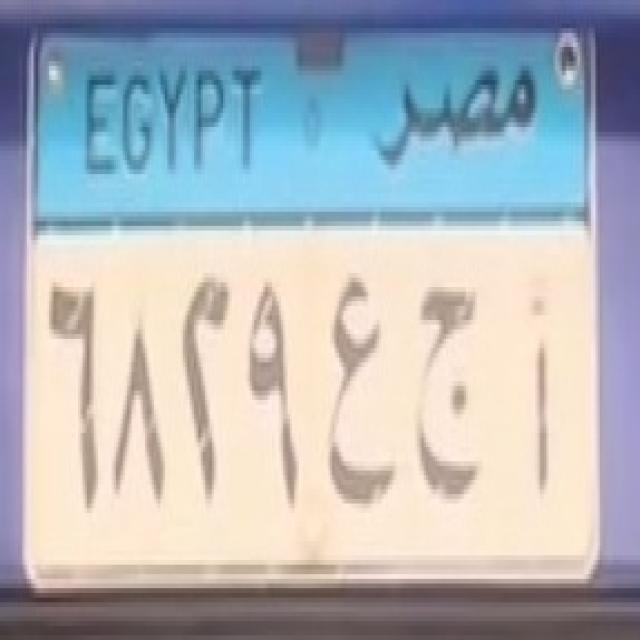2: (170, 264, 238, 520)
6: (40, 270, 116, 518)
8: (108, 290, 176, 515)
9: (241, 284, 305, 520)
Een: (318, 283, 402, 521)
alef: (516, 278, 568, 518)
geem: (405, 281, 494, 509)
